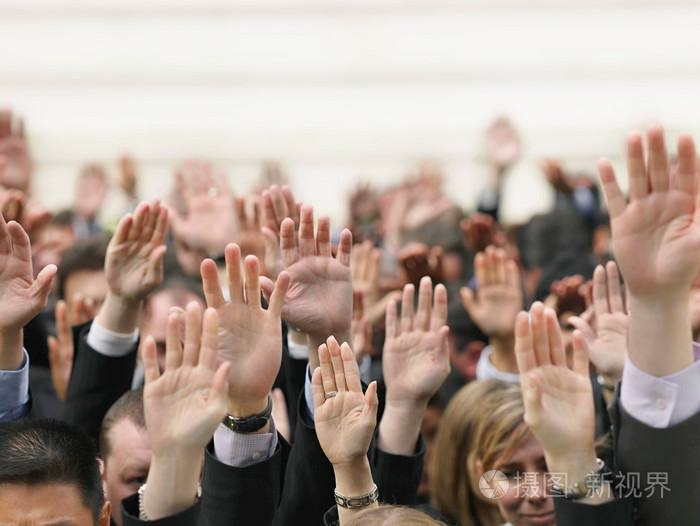no-phone: (595, 123, 700, 296), (257, 199, 358, 335), (139, 302, 235, 443), (513, 298, 597, 446), (305, 334, 380, 466), (383, 274, 451, 402), (102, 198, 172, 299)
